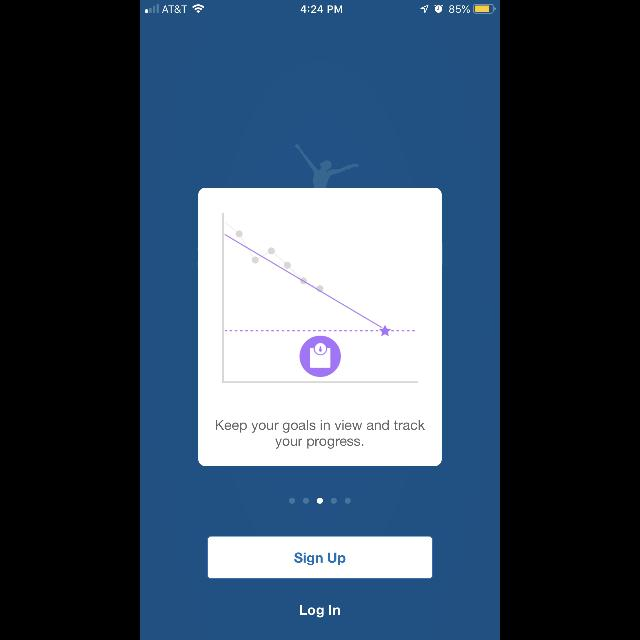image: (222, 213, 418, 383), (296, 144, 358, 188)
pageindicator: (289, 498, 351, 504)
text: (216, 419, 424, 448), (300, 604, 340, 618)
textbutton: (207, 535, 433, 579)
uppertaskbar: (140, 0, 500, 14)
